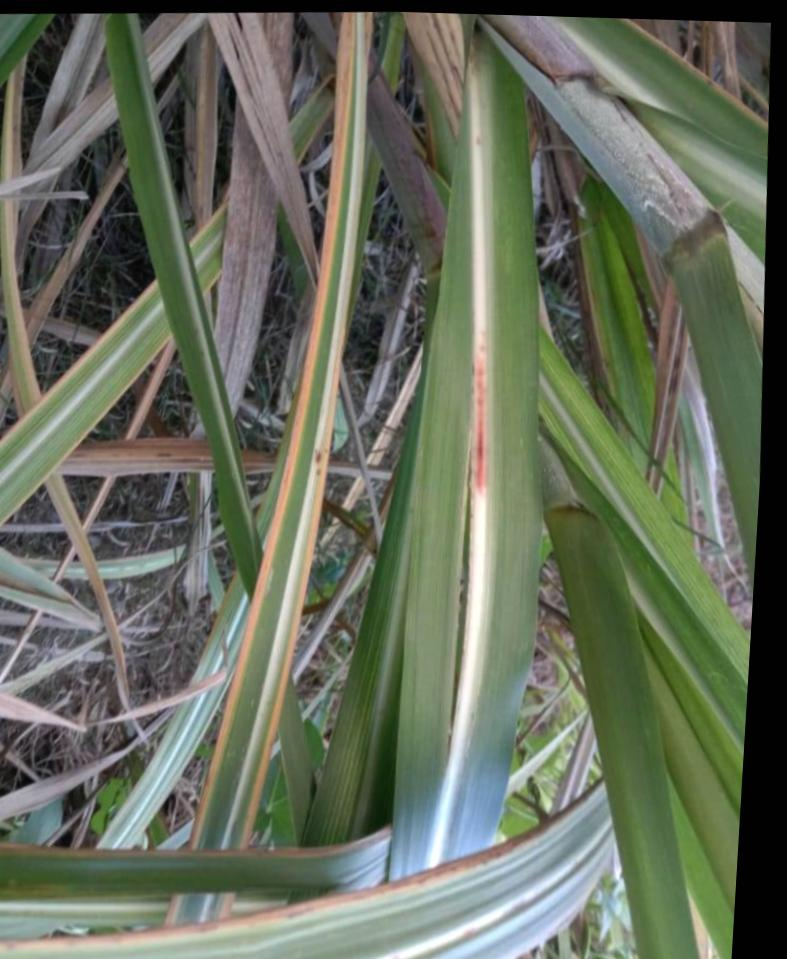RedRot: (471, 339, 485, 495)
Yellow: (188, 12, 354, 850), (234, 379, 337, 850), (161, 894, 187, 928), (210, 892, 234, 922)
